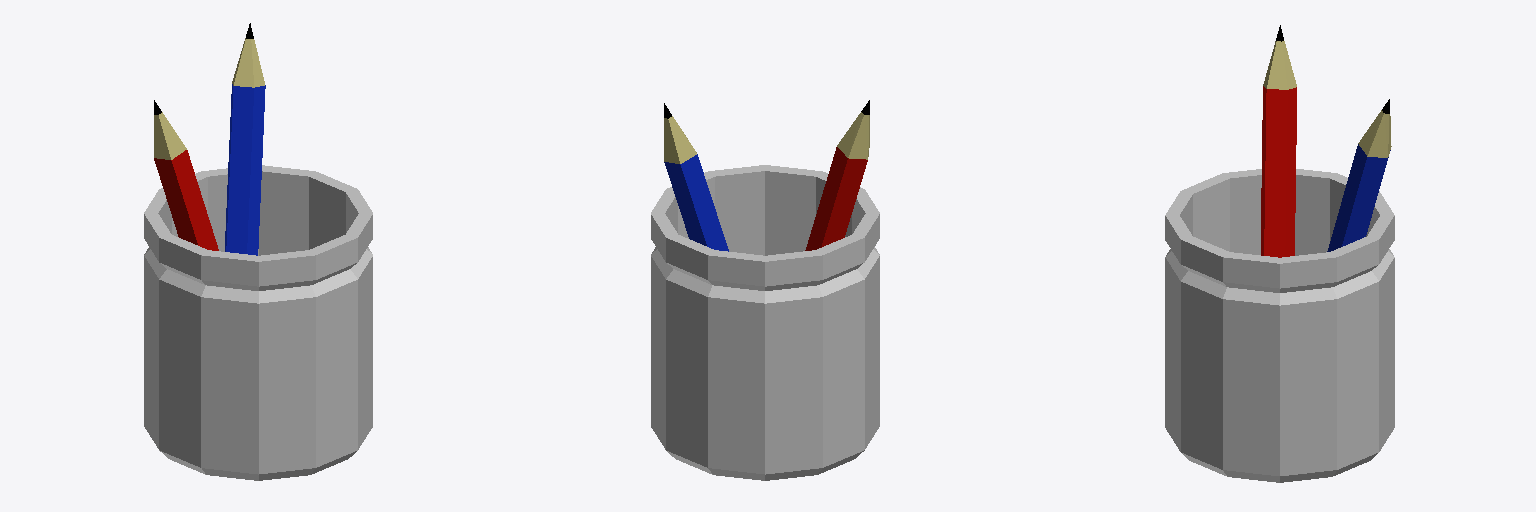
The model's file is pencilbox.obj.
The picture shows the model from 3 angles: view 1: azimuth 30°, elevation 25°; view 2: azimuth 150°, elevation 25°; view 3: azimuth 270°, elevation 25°; orthographic projection.
Parts seen in each view (by area): view 1: pencilbox; view 2: pencilbox; view 3: pencilbox.
Part boxes in pixels (x1,y1,x2,y2): pencilbox: (144, 23, 372, 480); pencilbox: (651, 100, 879, 480); pencilbox: (1165, 25, 1394, 482).
Bounding box in the file's own units: 0.1197 × 0.2035 × 0.1166.